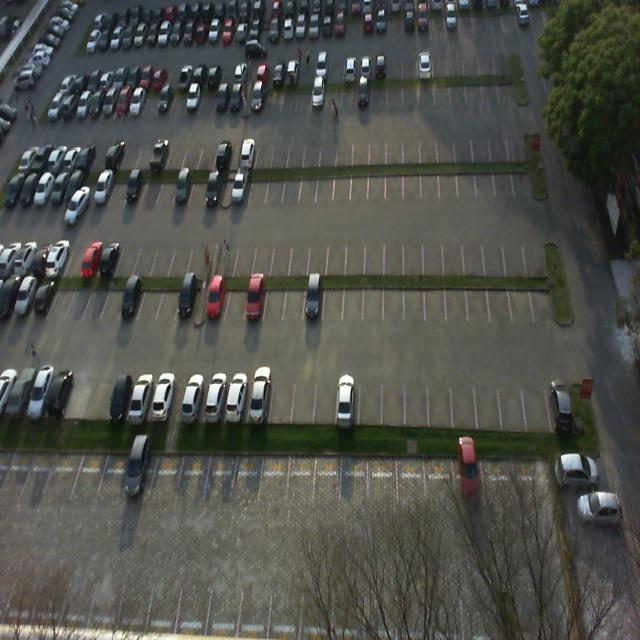space-empty: (94, 445, 132, 502), (43, 445, 79, 499), (71, 446, 106, 501), (148, 444, 182, 500), (231, 451, 264, 505), (175, 445, 209, 495), (204, 448, 238, 498), (312, 451, 342, 507), (259, 448, 291, 500), (21, 446, 55, 494), (499, 373, 527, 431), (64, 367, 93, 421), (476, 372, 502, 429), (523, 371, 549, 428), (222, 272, 249, 326), (83, 371, 112, 421), (288, 449, 314, 504), (136, 267, 162, 321), (428, 375, 454, 429), (452, 374, 479, 426), (268, 373, 294, 425), (312, 372, 336, 428), (154, 274, 180, 324), (262, 270, 286, 324), (530, 270, 557, 318), (359, 371, 382, 426), (405, 374, 429, 426), (101, 270, 125, 320), (290, 372, 313, 424), (382, 371, 405, 423), (486, 273, 511, 320), (483, 227, 507, 275), (443, 226, 466, 273), (130, 236, 156, 276), (113, 238, 140, 276), (505, 227, 527, 273), (525, 229, 549, 271), (167, 238, 193, 276), (467, 275, 488, 322), (148, 237, 172, 278), (509, 276, 531, 320), (188, 164, 211, 206), (322, 277, 343, 323), (444, 277, 467, 319), (282, 276, 302, 324), (425, 229, 445, 276), (188, 239, 212, 278), (155, 165, 177, 207), (139, 165, 162, 205), (511, 156, 534, 196), (404, 226, 424, 272), (363, 276, 383, 322), (404, 274, 424, 320), (426, 276, 446, 322), (382, 231, 404, 272), (287, 234, 309, 274), (464, 228, 484, 272), (229, 238, 251, 277), (251, 235, 273, 273), (345, 231, 364, 275), (384, 276, 402, 322), (213, 239, 235, 275), (268, 236, 290, 272), (345, 275, 362, 321), (307, 234, 327, 273), (324, 235, 344, 273), (364, 235, 383, 273), (458, 162, 478, 198), (478, 158, 496, 198), (299, 166, 317, 205), (283, 164, 300, 205), (250, 166, 268, 204), (368, 162, 386, 200), (494, 160, 514, 194), (267, 166, 283, 207), (333, 165, 350, 201), (403, 163, 421, 197), (422, 163, 440, 197), (388, 162, 404, 200), (440, 162, 458, 195), (316, 166, 332, 200), (351, 164, 367, 198)
space-occupied: (123, 442, 157, 502), (545, 370, 576, 426), (223, 370, 254, 424), (117, 271, 145, 323), (106, 371, 134, 421), (127, 370, 153, 420), (203, 370, 229, 420), (246, 372, 272, 422), (148, 374, 175, 422), (174, 272, 198, 324), (241, 275, 265, 325), (335, 373, 359, 423), (181, 373, 206, 419), (205, 273, 225, 327), (303, 276, 324, 324), (172, 165, 194, 207), (204, 166, 226, 206), (231, 164, 252, 205)
